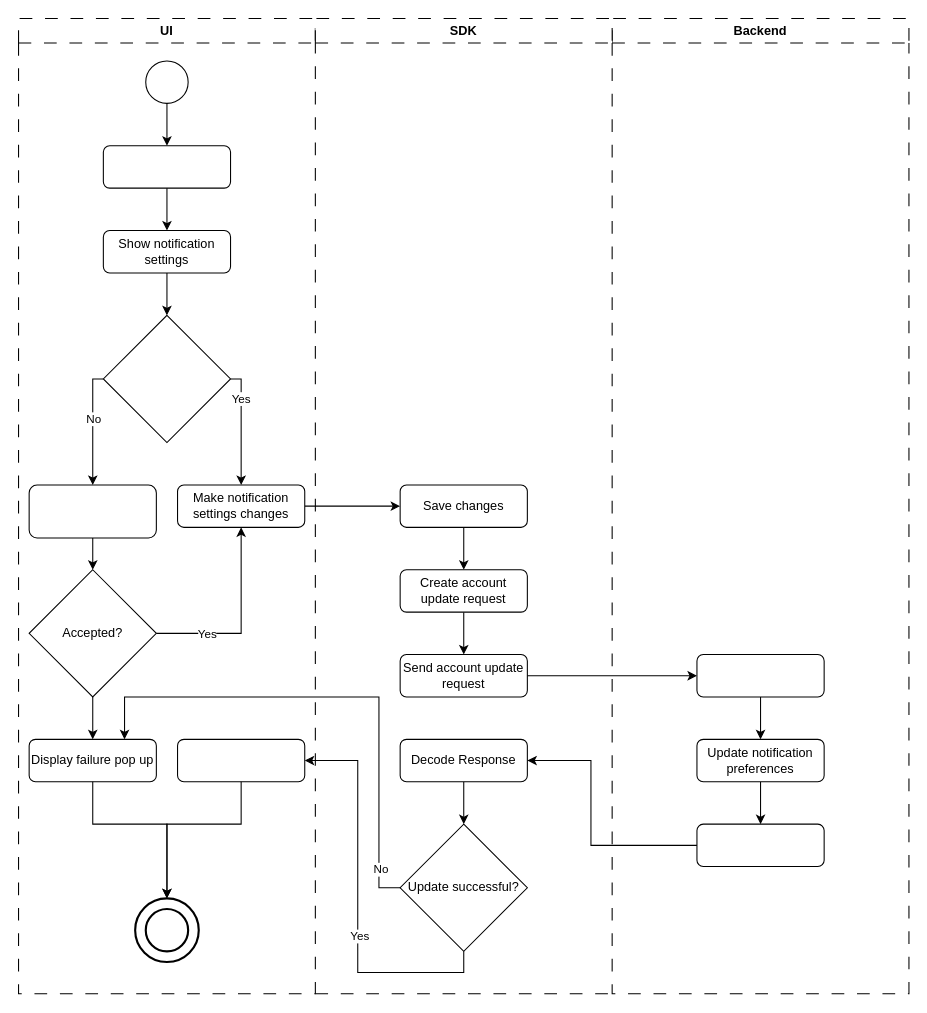
The diagram is 927 pixels wide and 1013 high, and some of its shapes have lost their labels. Here are the shapes that lost their labels. From the top down, the centre of each, then its label:
(x=166, y=166): Notification settings button pressed
(x=166, y=378): Notification Permissions allowed?
(x=92, y=511): Ask user for notification permissions
(x=760, y=675): Decode account update request
(x=240, y=760): Display success pop up
(x=760, y=845): Send response
